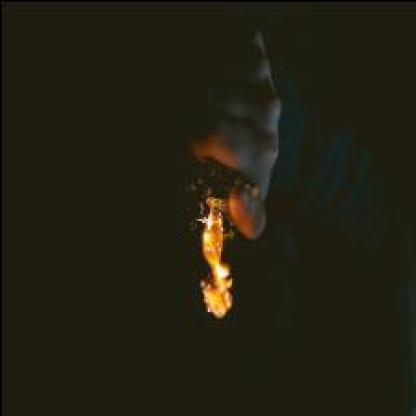Fire: (200, 207, 228, 317)
